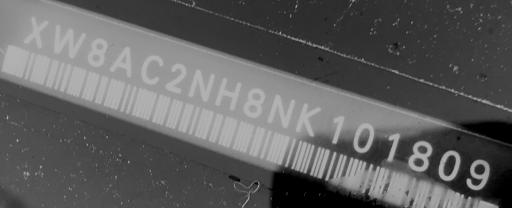letter: (53, 22, 87, 61), (294, 100, 324, 138), (186, 67, 216, 104), (266, 92, 296, 128), (108, 45, 136, 82), (214, 76, 242, 110), (406, 139, 434, 172), (24, 15, 50, 49), (436, 148, 462, 181), (240, 86, 266, 118), (140, 52, 164, 86), (466, 156, 490, 190), (163, 63, 187, 96), (352, 120, 376, 153), (86, 36, 108, 67), (328, 112, 346, 146), (384, 130, 402, 163)
